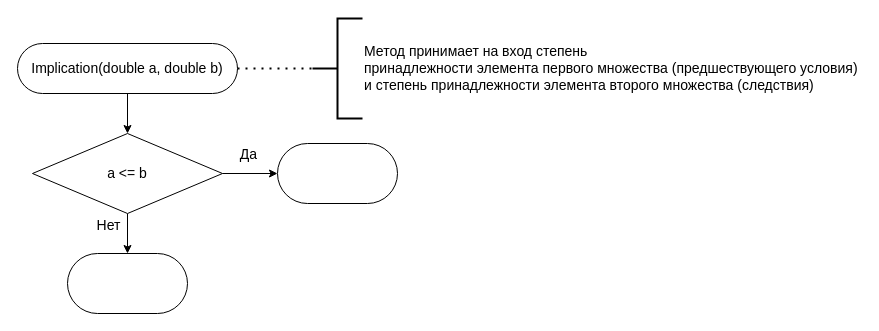
Some shapes in this 879 by 331 pixel diagram are drawn without their labels. The centre of each missing label's shape, as x and y in pixels:
return 1: the point at 337,173
return 1 - a + b: the point at 127,283
